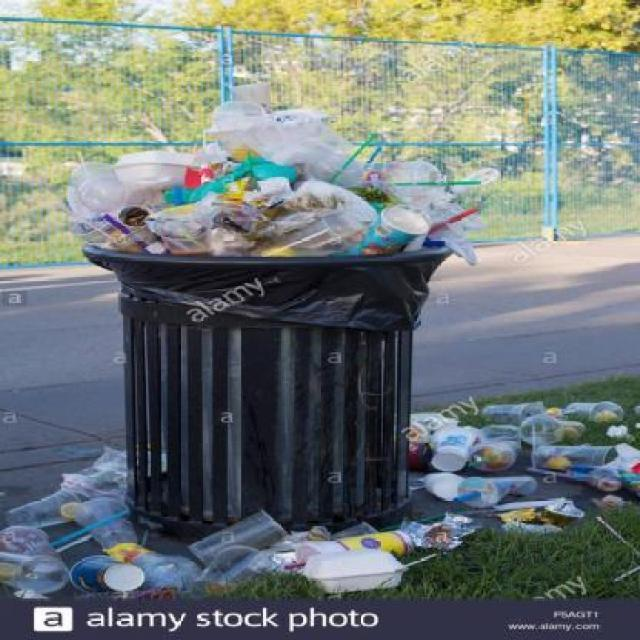garbage: (79, 94, 459, 258), (413, 391, 640, 525), (114, 502, 416, 591), (0, 439, 150, 598)
